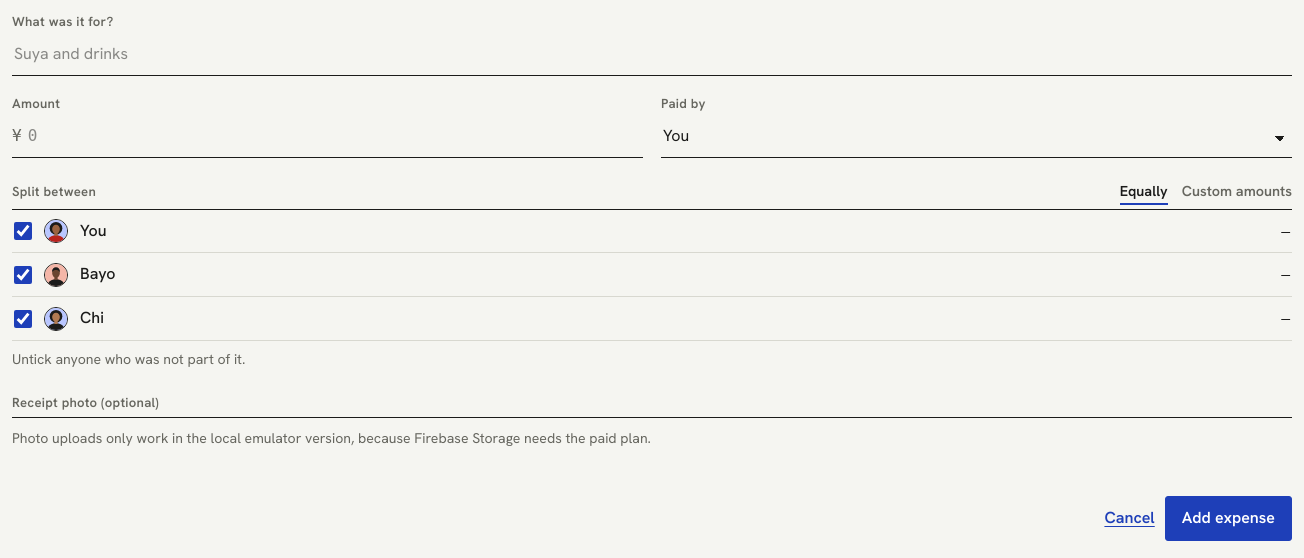
<ExpenseForm> equal split › splits yen in whole yen: ¥1,000 is 334 / 333 / 333
Type "1,000" into the field labelled "Amount" at (334, 137), box [26,116,643,157]
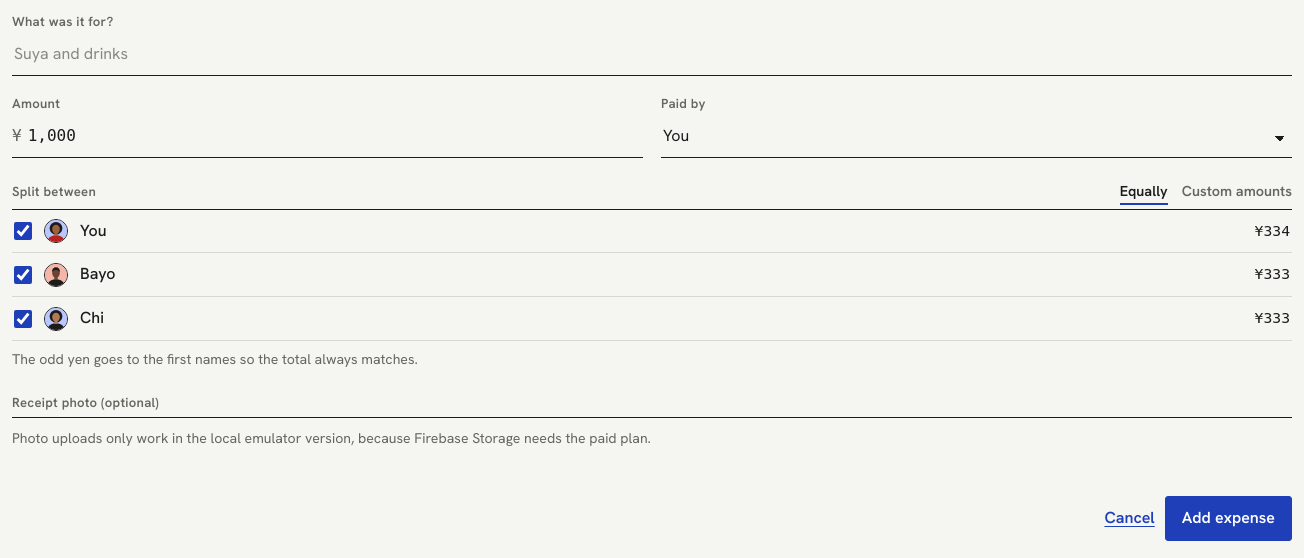
Check: the text "The odd yen goes to the first names so the total always matches." is shown, box [12,350,418,368]
